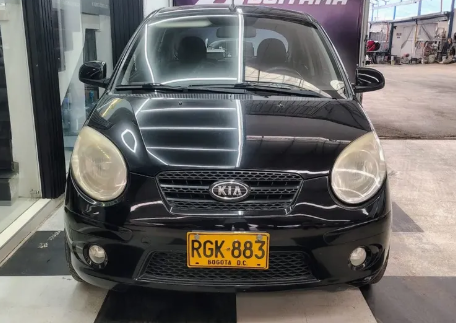placa: (187, 232, 268, 271)
